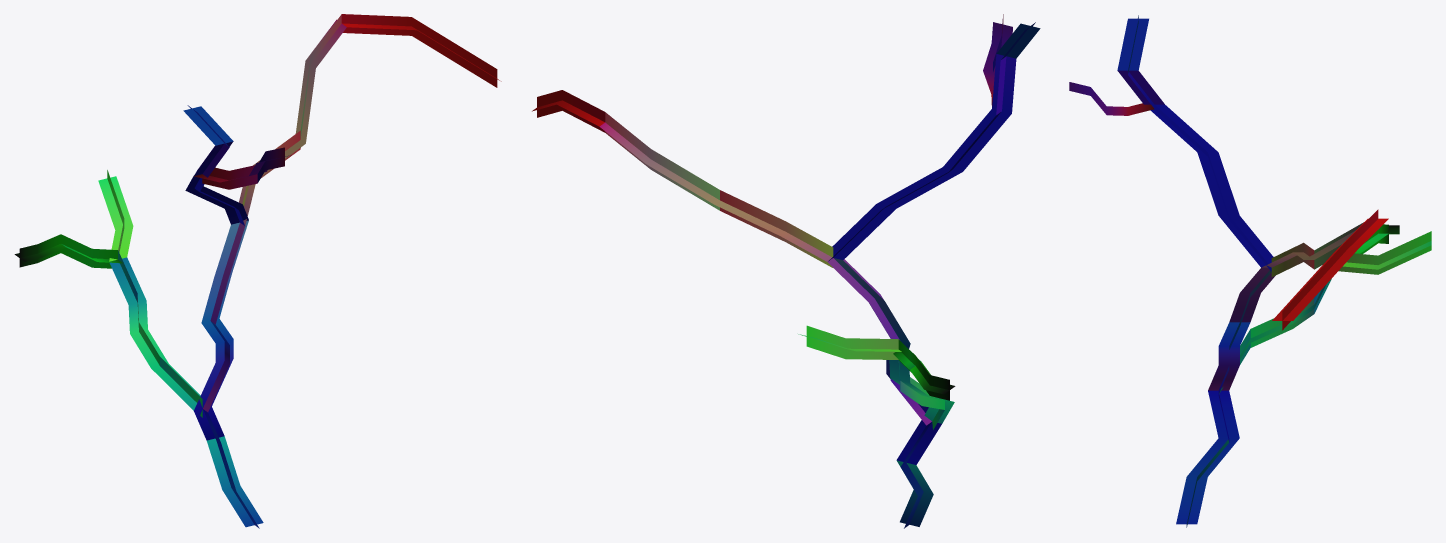
The model's file is uni_bolt.fbx.
The picture shows the model from 3 angles, left to right: view 1: azimuth 30°, elevation 25°; view 2: azimuth 150°, elevation 25°; view 3: azimuth 270°, elevation 25°; orthographic projection. The views are drawn at different scales.
Parts seen in each view (by area): view 1: uni_bolt; view 2: uni_bolt; view 3: uni_bolt.
Boxes of the visible parts, x1,y1,x2,y2 form: uni_bolt: (14, 14, 501, 528); uni_bolt: (532, 14, 1040, 528); uni_bolt: (1069, 15, 1431, 527).
Bounding box in the file's own units: 13600 × 18800 × 19200.
